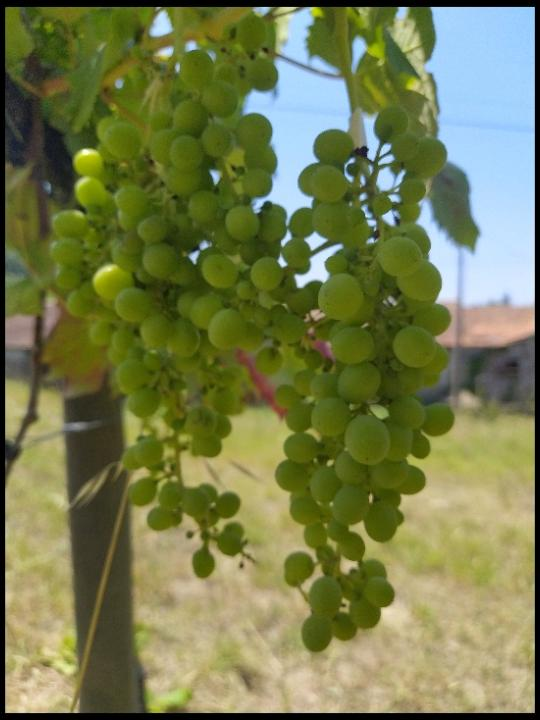grape: (47, 15, 286, 577), (274, 103, 455, 659)
